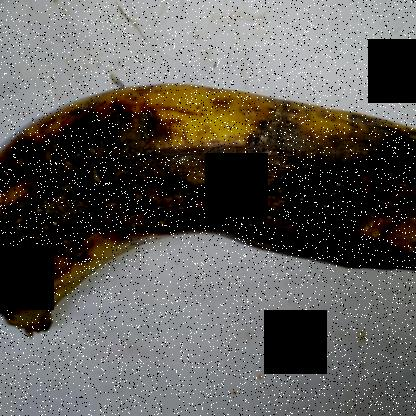rotten: (0, 64, 415, 356)
